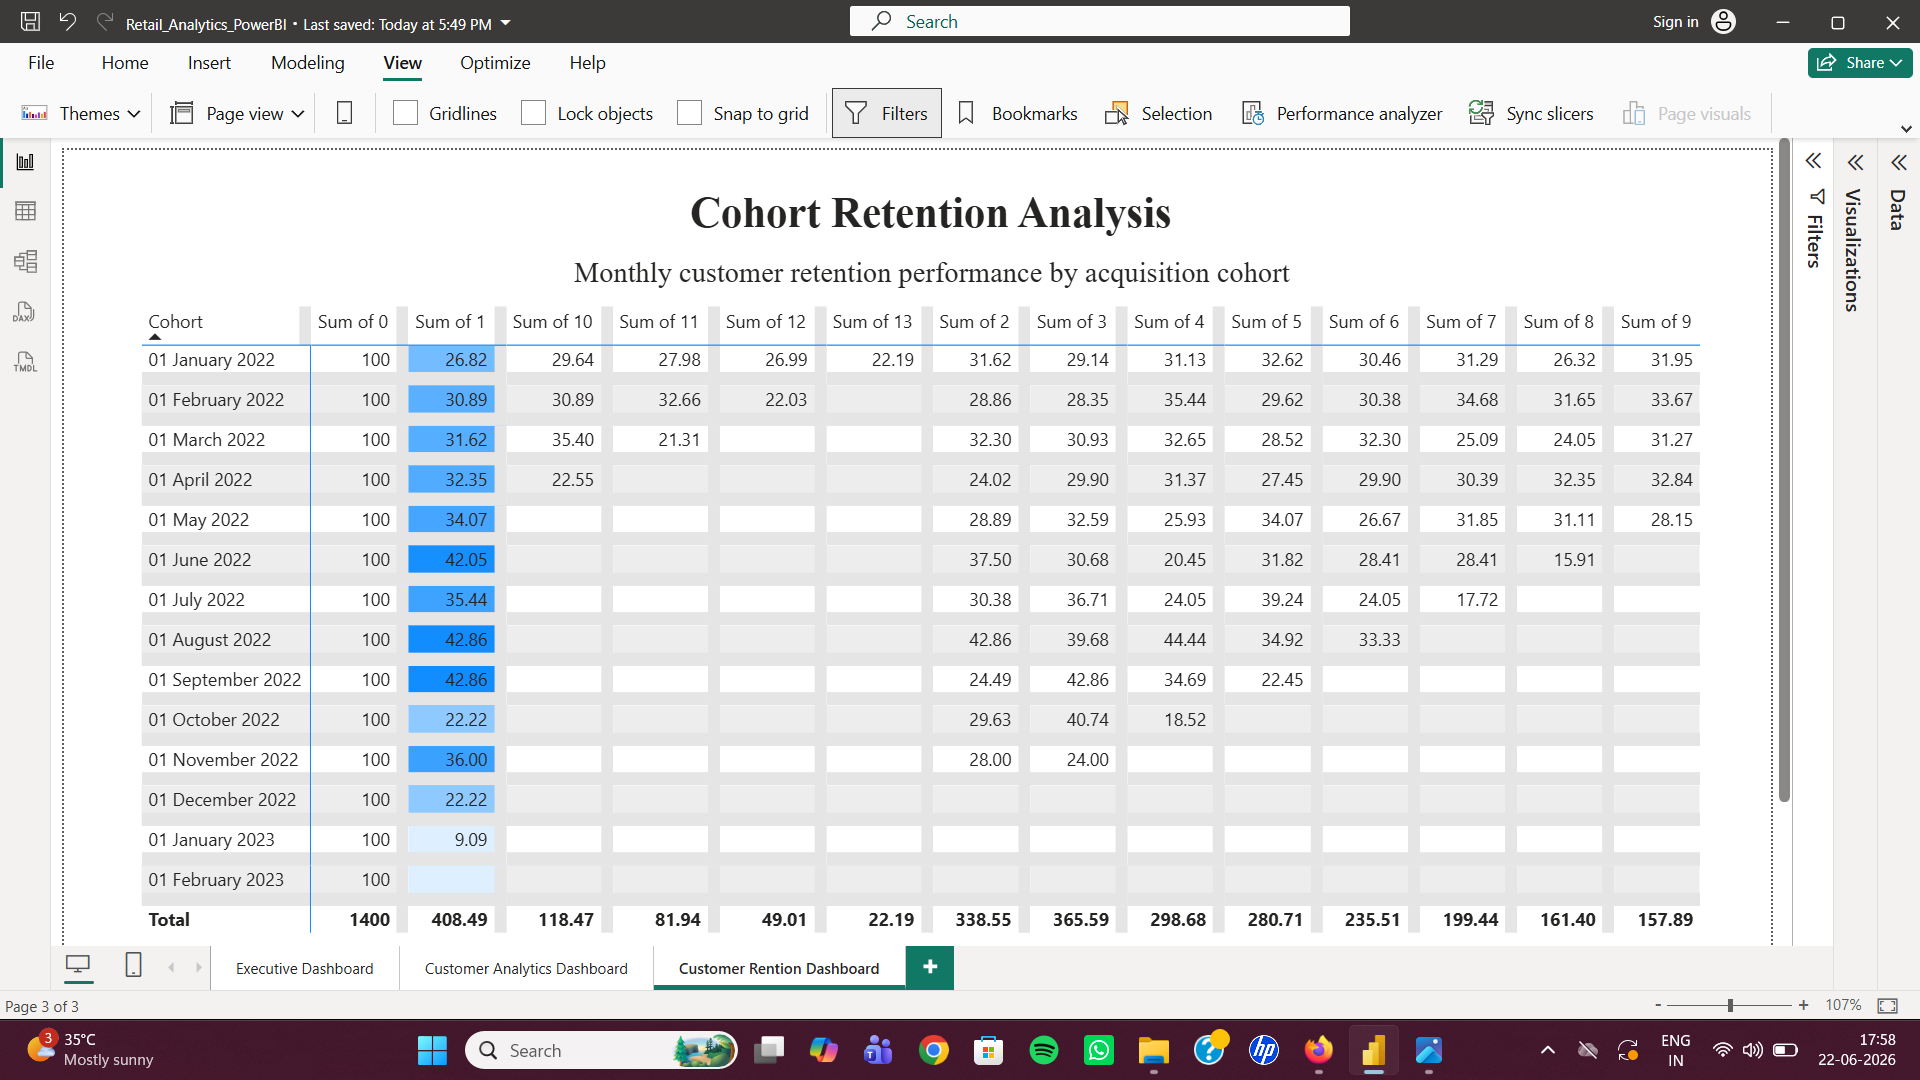

The dashboard page shown, as its layout file describes it:
{"tool":"powerbi","page":{"name":"Customer Rention Dashboard","canvas":[1280,720],"ordinal":2},"visuals":[{"type":"pivotTable","fields":{"Values":["Sum(cohort_retention.0)","Sum(cohort_retention.1)","Sum(cohort_retention.10)","Sum(cohort_retention.11)","Sum(cohort_retention.12)","Sum(cohort_retention.13)","Sum(cohort_retention.2)","Sum(cohort_retention.3)","Sum(cohort_retention.4)","Sum(cohort_retention.5)","Sum(cohort_retention.6)","Sum(cohort_retention.7)"],"Rows":["cohort_retention.Cohort"]},"box":[53.4,112.5,1194,580.1],"z":0},{"type":"textbox","box":[64.8,23.2,1170.3,70.9],"z":1000},{"type":"textbox","box":[160.2,74.6,980.7,37.9],"z":2000}]}

Visuals, with their boxes on the page's 1280x720 design canvas (x1, y1, x2, y2). These are canvas units, not pixel positions in the 1920x1080 screenshot, which may show the page scaled, cropped or inside an application window:
pivotTable - Sum(cohort_retention.0) x Sum(cohort_retention.1): [left=53, top=112, right=1247, bottom=693]
textbox: [left=65, top=23, right=1235, bottom=94]
textbox: [left=160, top=75, right=1141, bottom=112]
